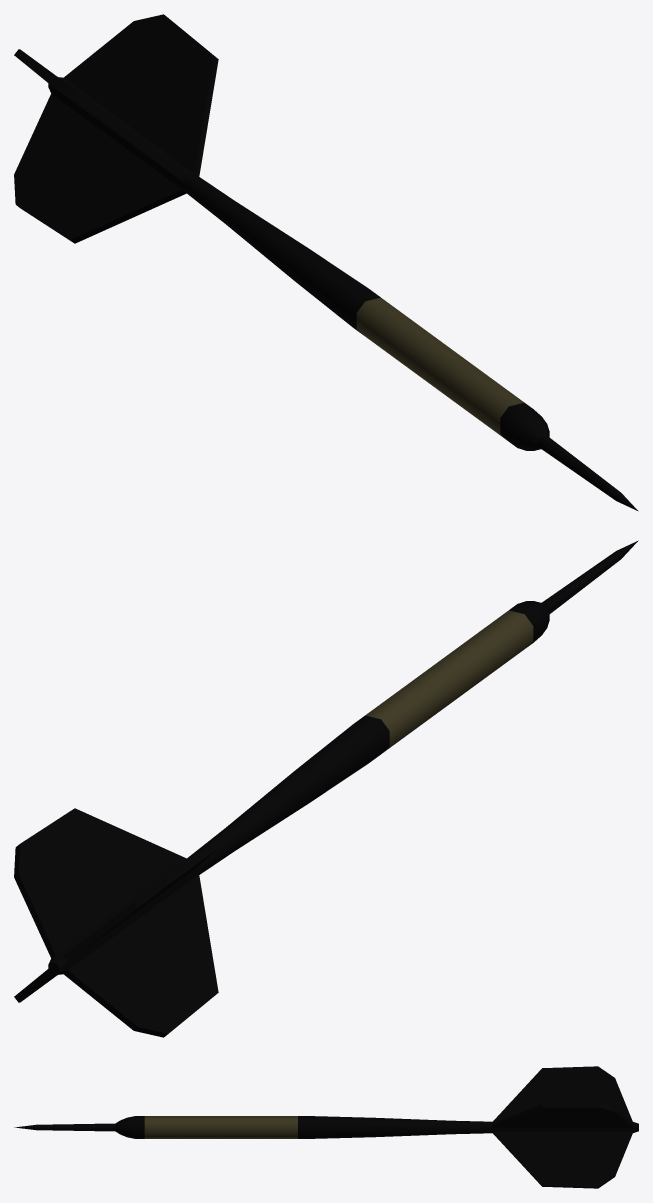
The model's file is dart.fbx.
3 views of the same model, one above another, from view 1: azimuth 30°, elevation 25°; view 2: azimuth 150°, elevation 25°; view 3: azimuth 270°, elevation 25° (orthographic). The views are drawn at different scales.
Visible parts, largest first — view 1: Darts; view 2: Darts; view 3: Darts.
Part boxes in pixels (left/top/right/bottom): Darts: left=14, top=14, right=638, bottom=511; Darts: left=14, top=540, right=638, bottom=1037; Darts: left=14, top=1066, right=638, bottom=1188.
Bounding box in the file's own units: 152 × 151 × 1011.
